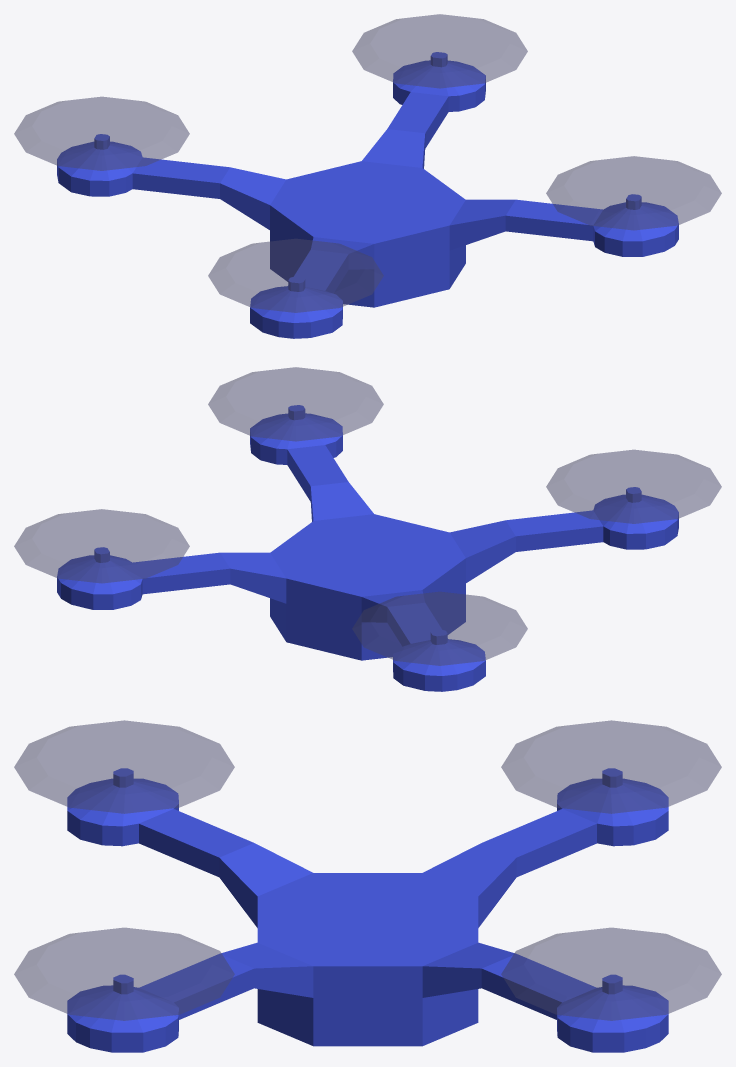
The model's file is QuadDrone.fbx.
The picture shows the model from 3 angles, top to bottom: view 1: azimuth 30°, elevation 25°; view 2: azimuth 150°, elevation 25°; view 3: azimuth 270°, elevation 25°; orthographic projection. The views are drawn at different scales.
Visible parts, largest first — view 1: QuadDrone, QuadDroneProp; view 2: QuadDrone, QuadDroneProp; view 3: QuadDrone, QuadDroneProp.
Part boxes in pixels (x1,y1,x2,y2): QuadDrone: (57, 52, 678, 338); QuadDroneProp: (14, 14, 721, 312); QuadDrone: (57, 405, 678, 691); QuadDroneProp: (14, 367, 721, 665); QuadDrone: (67, 768, 668, 1052); QuadDroneProp: (14, 720, 721, 1020).
Size of the model in its own units: 644 by 138 by 641.
